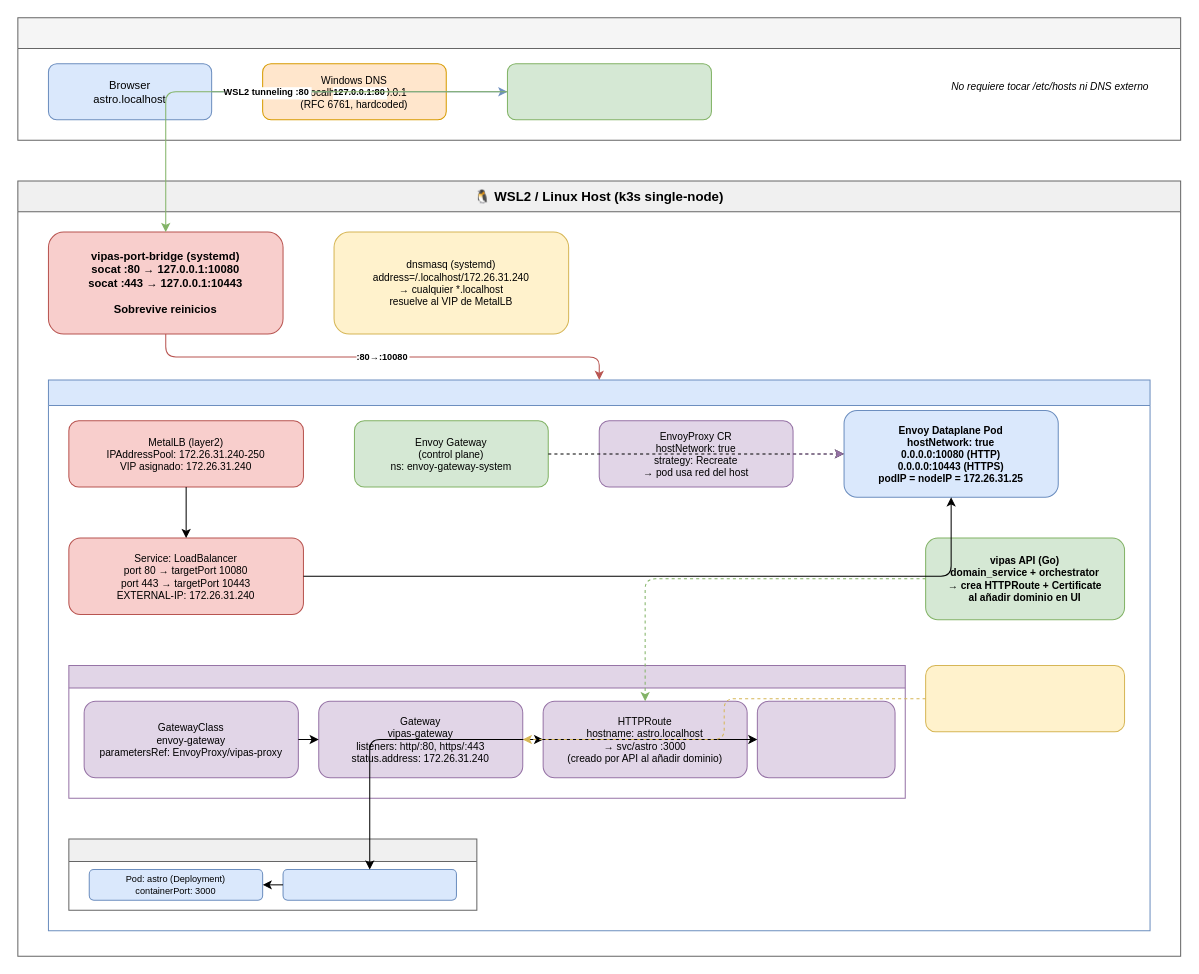
The diagram is 1199 pixels wide and 974 high, and some of its shapes have lost their labels. The box of each missing label's shape, as (x1, y1, x2, y2) in pixels:
cert-manager Certificate CR (autocert) ClusterIssuer: letsencrypt: (925, 665, 1125, 732)
Gateway API (ns: gateway-system): (68, 665, 905, 798)
HTTPRoute N hostname: *.localhost → svc/appN :puerto: (756, 700, 895, 778)
Kubernetes (k3s) — CNI: Calico: (47, 379, 1150, 931)
ns: sb-proyecto-xxxxx: (68, 838, 477, 910)
Service: astro port: 3000: (282, 869, 456, 900)
WSL2 Auto-Forward detecta :80 activo en WSL2 → tunnela automáticamente: (506, 63, 711, 120)
💻 Windows Host (Chrome / Edge): (17, 17, 1181, 140)
